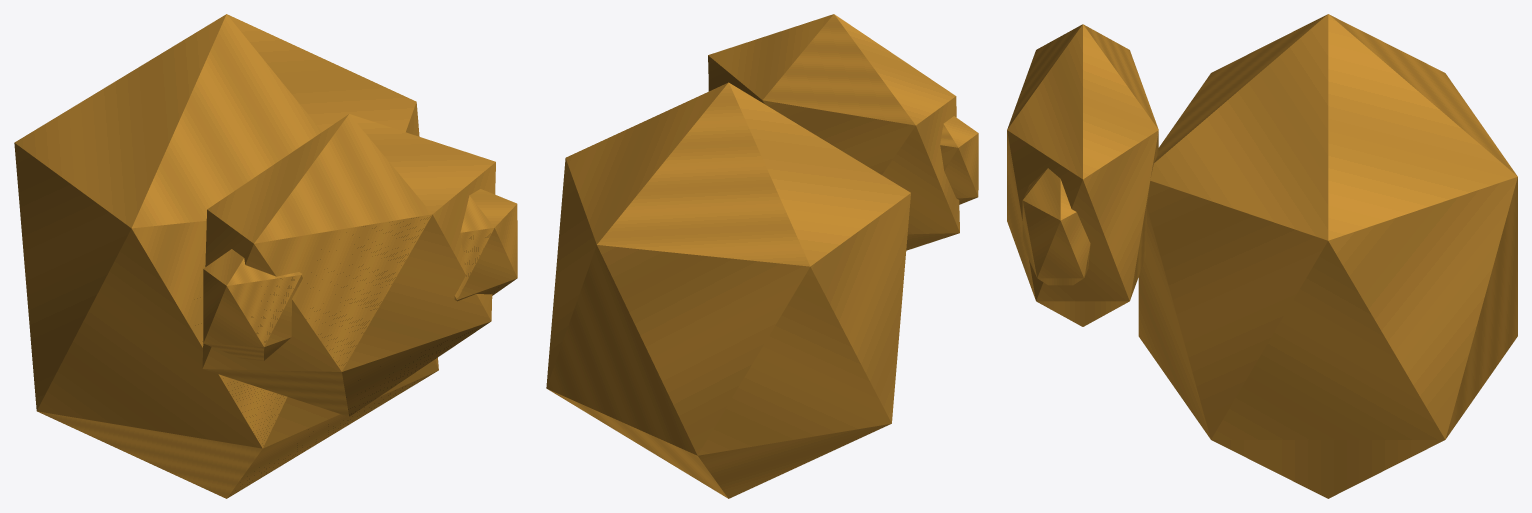
The model's file is plunder.glb.
3 renders of one model, left to right at view 1: azimuth 30°, elevation 25°; view 2: azimuth 150°, elevation 25°; view 3: azimuth 270°, elevation 25°, orthographic. The views are drawn at different scales.
Parts seen in each view (by area): view 1: gear_plunder; view 2: gear_plunder; view 3: gear_plunder.
Part boxes in pixels (x1,y1,x2,y2): gear_plunder: [14, 14, 517, 498]; gear_plunder: [546, 14, 978, 498]; gear_plunder: [1007, 14, 1517, 498].
Bounding box in the file's own units: 0.1968 × 0.24 × 0.2291.
Materials: 1 (1 with a texture image).
